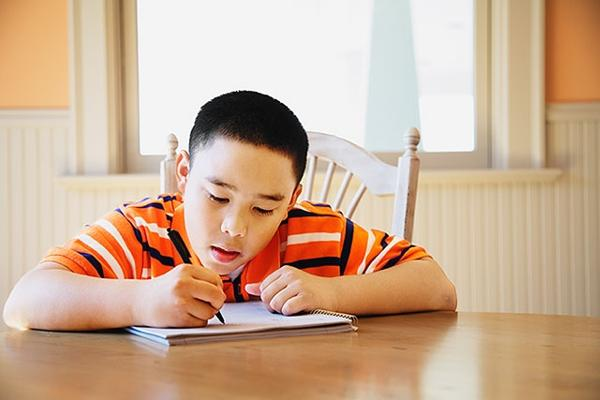person: (7, 91, 460, 334)
